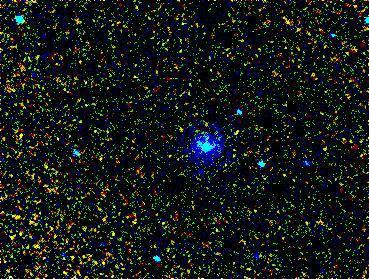star: (169, 113, 199, 143)
